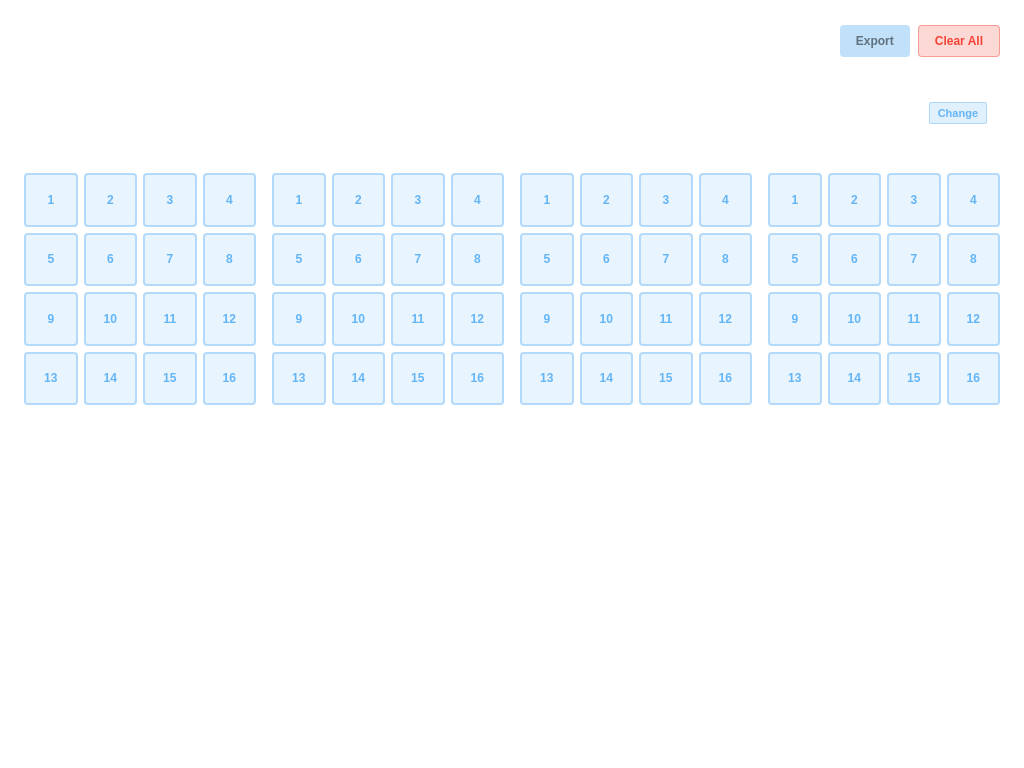
Test: KoalaKitBuilder Component › Pad Interactions › clicking asset in picker assigns sample to pad
Click the button with test id "pad-A-1" at point(51, 200), box [24, 173, 78, 226]
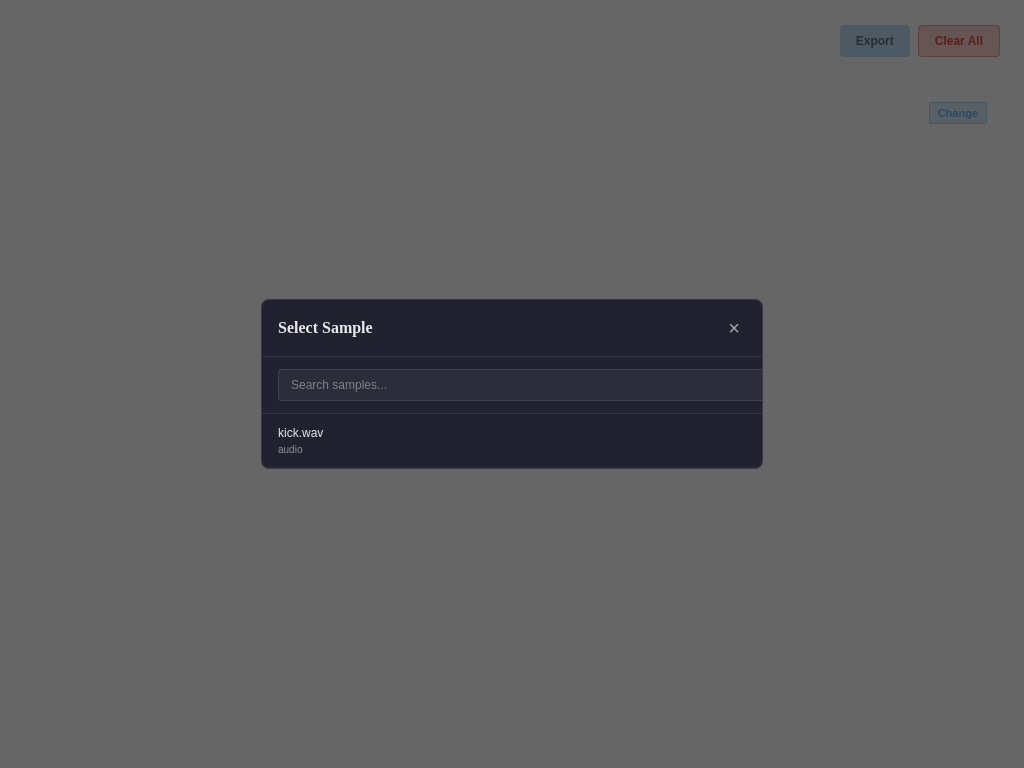
expect the button with class "sample-item" is shown: met
Click the button with class "sample-item" at point(301, 433), box [262, 414, 762, 468]
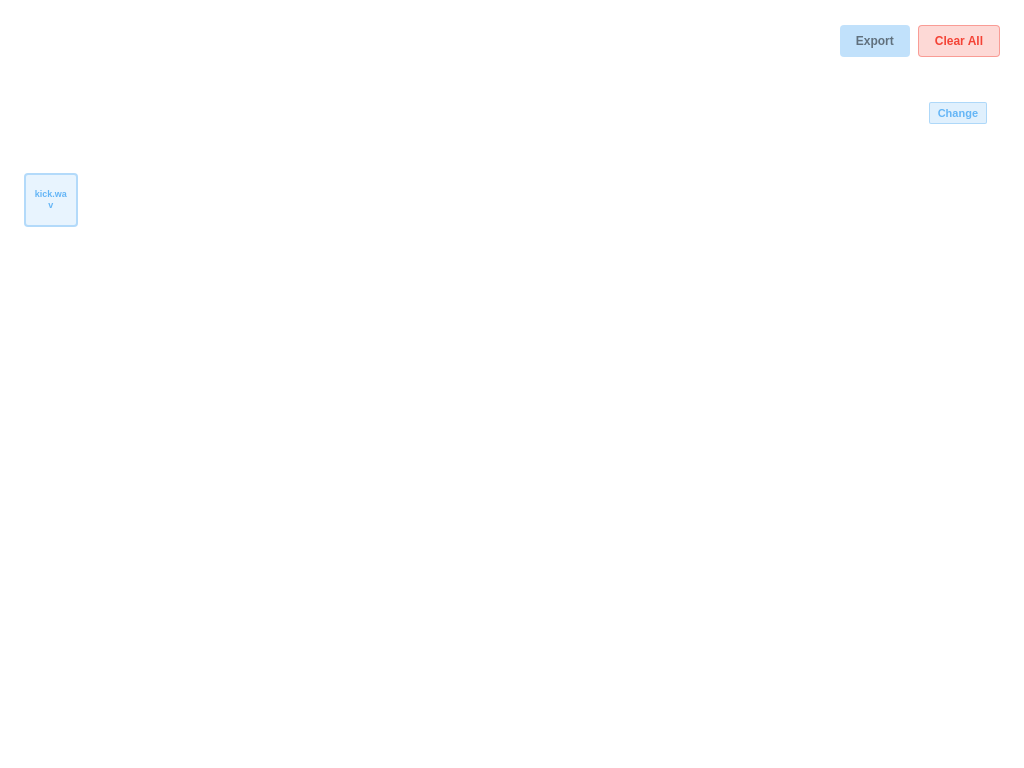
expect the button with test id "pad-A-1" reads "kick.wav": met, box [24, 173, 78, 226]
